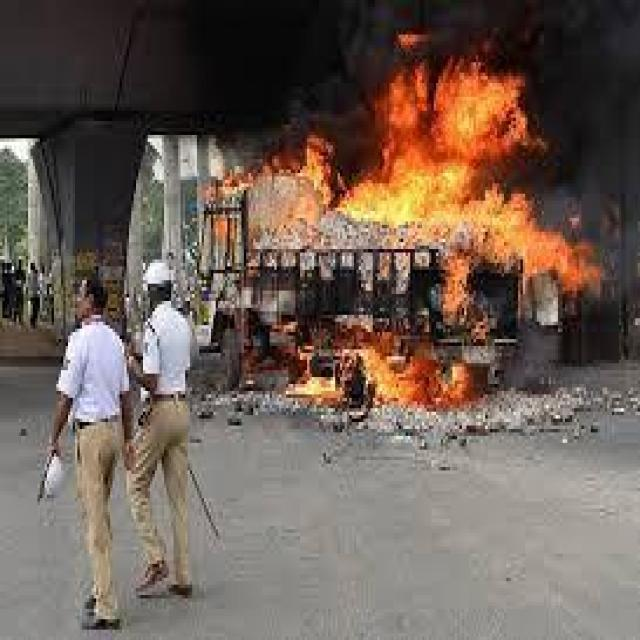fire: (333, 33, 599, 302), (246, 301, 518, 427), (195, 112, 330, 242)
smoke: (30, 0, 636, 135)
